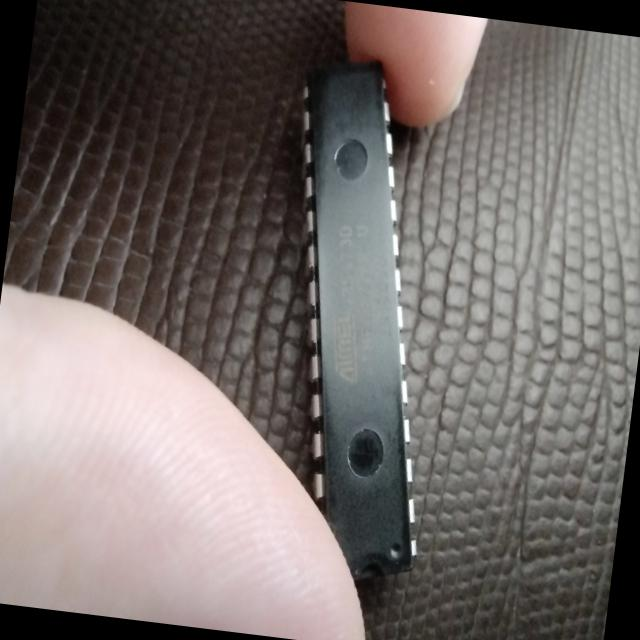atmega: (240, 47, 478, 591)
